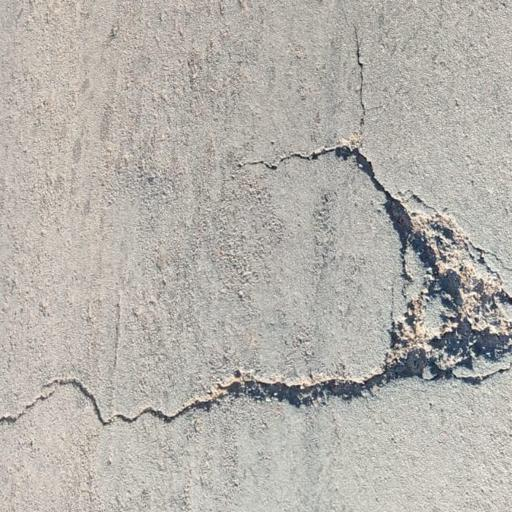GRIETA: (0, 193, 511, 424), (237, 146, 388, 193), (354, 25, 365, 136)
